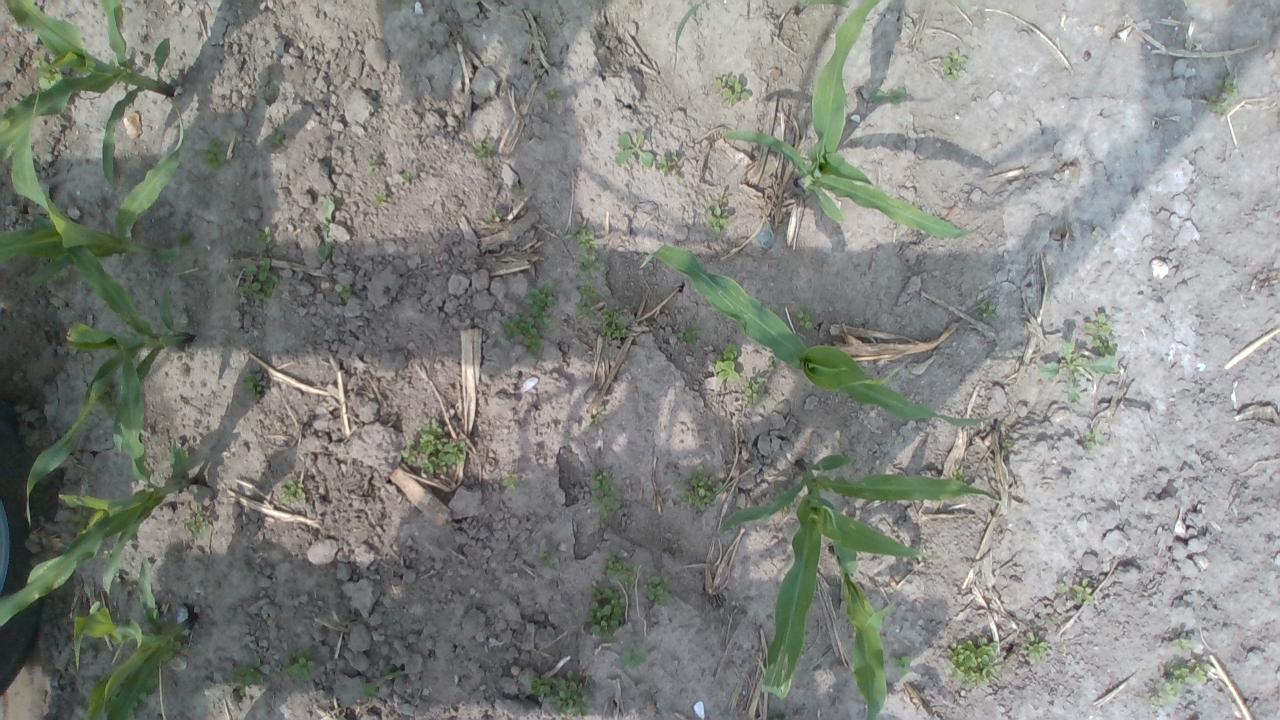Maize: (721, 451, 999, 720), (656, 244, 992, 428), (0, 323, 199, 628), (720, 0, 964, 241), (24, 248, 192, 534), (0, 94, 185, 292), (0, 0, 172, 189), (74, 556, 195, 720), (666, 0, 852, 66)
Weeds: (1038, 341, 1118, 401), (501, 281, 558, 358), (400, 419, 468, 476), (946, 636, 1001, 691), (582, 584, 628, 643), (680, 463, 720, 512), (552, 670, 592, 719), (588, 468, 624, 518), (237, 258, 281, 298), (1081, 312, 1119, 356), (614, 130, 654, 170), (1154, 662, 1191, 704), (282, 648, 322, 686), (598, 550, 640, 586), (157, 233, 195, 272), (712, 340, 744, 386), (1206, 72, 1239, 116), (317, 196, 338, 263), (575, 230, 601, 280), (716, 74, 754, 108), (702, 192, 730, 234), (232, 661, 266, 693), (600, 307, 632, 340), (241, 366, 270, 402), (1021, 628, 1050, 664), (199, 137, 227, 174), (34, 58, 64, 91), (645, 574, 674, 608), (87, 668, 110, 709), (575, 280, 598, 318), (870, 84, 909, 106), (941, 49, 968, 80), (742, 377, 769, 404), (278, 479, 308, 503), (472, 136, 498, 162), (621, 646, 649, 670), (254, 225, 276, 255), (888, 652, 912, 679), (677, 324, 705, 347), (1072, 579, 1094, 606), (528, 673, 553, 696), (1190, 658, 1212, 684), (95, 391, 116, 418), (656, 152, 679, 176), (188, 512, 209, 534), (138, 677, 158, 700), (1170, 635, 1197, 652), (332, 282, 356, 300), (796, 308, 814, 332), (359, 681, 384, 698), (1086, 430, 1106, 451), (977, 302, 998, 321), (540, 547, 558, 569), (502, 472, 519, 491), (590, 404, 606, 424), (384, 664, 402, 680), (951, 468, 970, 483), (1054, 580, 1070, 596), (173, 639, 190, 653), (272, 132, 289, 146), (375, 191, 389, 208), (544, 88, 560, 102), (128, 700, 139, 720), (400, 170, 413, 186), (491, 208, 504, 221), (764, 357, 774, 373), (1001, 438, 1014, 449), (914, 555, 929, 563), (368, 163, 378, 173), (1046, 616, 1057, 624)
